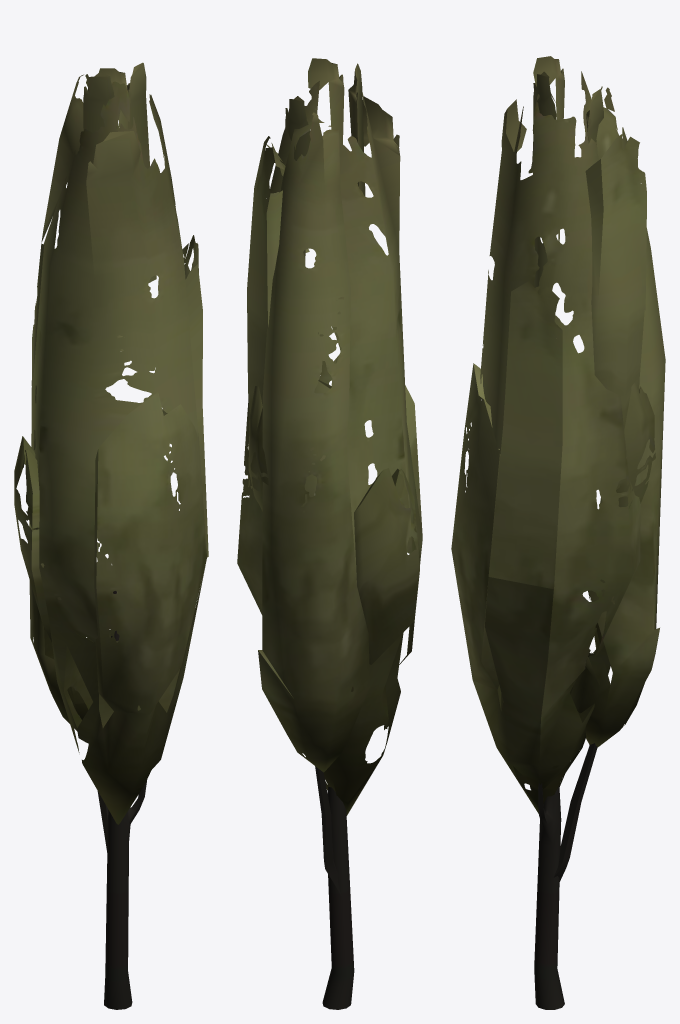
The picture shows the model from 3 angles, left to right: view 1: azimuth 30°, elevation 25°; view 2: azimuth 150°, elevation 25°; view 3: azimuth 270°, elevation 25°; orthographic projection.
Parts seen in each view (by area): view 1: body0_model0_lod0_mesh0; view 2: body0_model0_lod0_mesh0; view 3: body0_model0_lod0_mesh0.
Boxes of the visible parts, x1,y1,x2,y2 form: body0_model0_lod0_mesh0: (14,62,208,1009); body0_model0_lod0_mesh0: (237,58,422,1009); body0_model0_lod0_mesh0: (451,56,665,1009).
Bounding box in the file's own units: 190 × 1047 × 205.
Materials: 1 (1 with a texture image).
